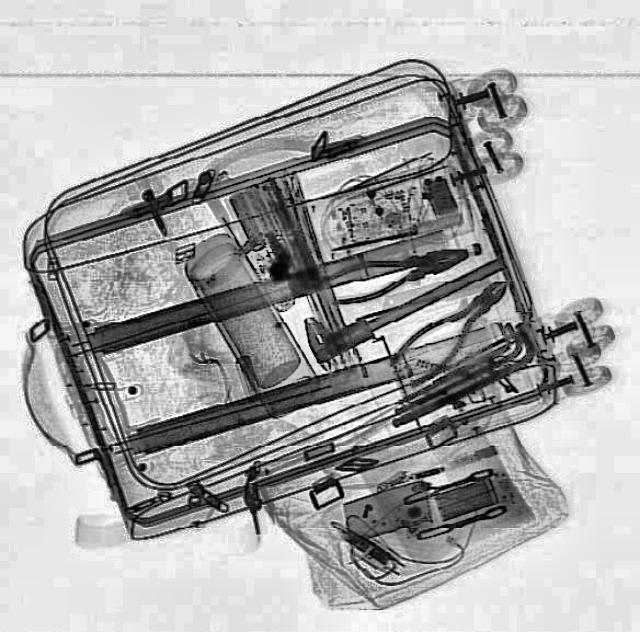Pliers: (380, 264, 522, 390), (312, 232, 473, 310)
